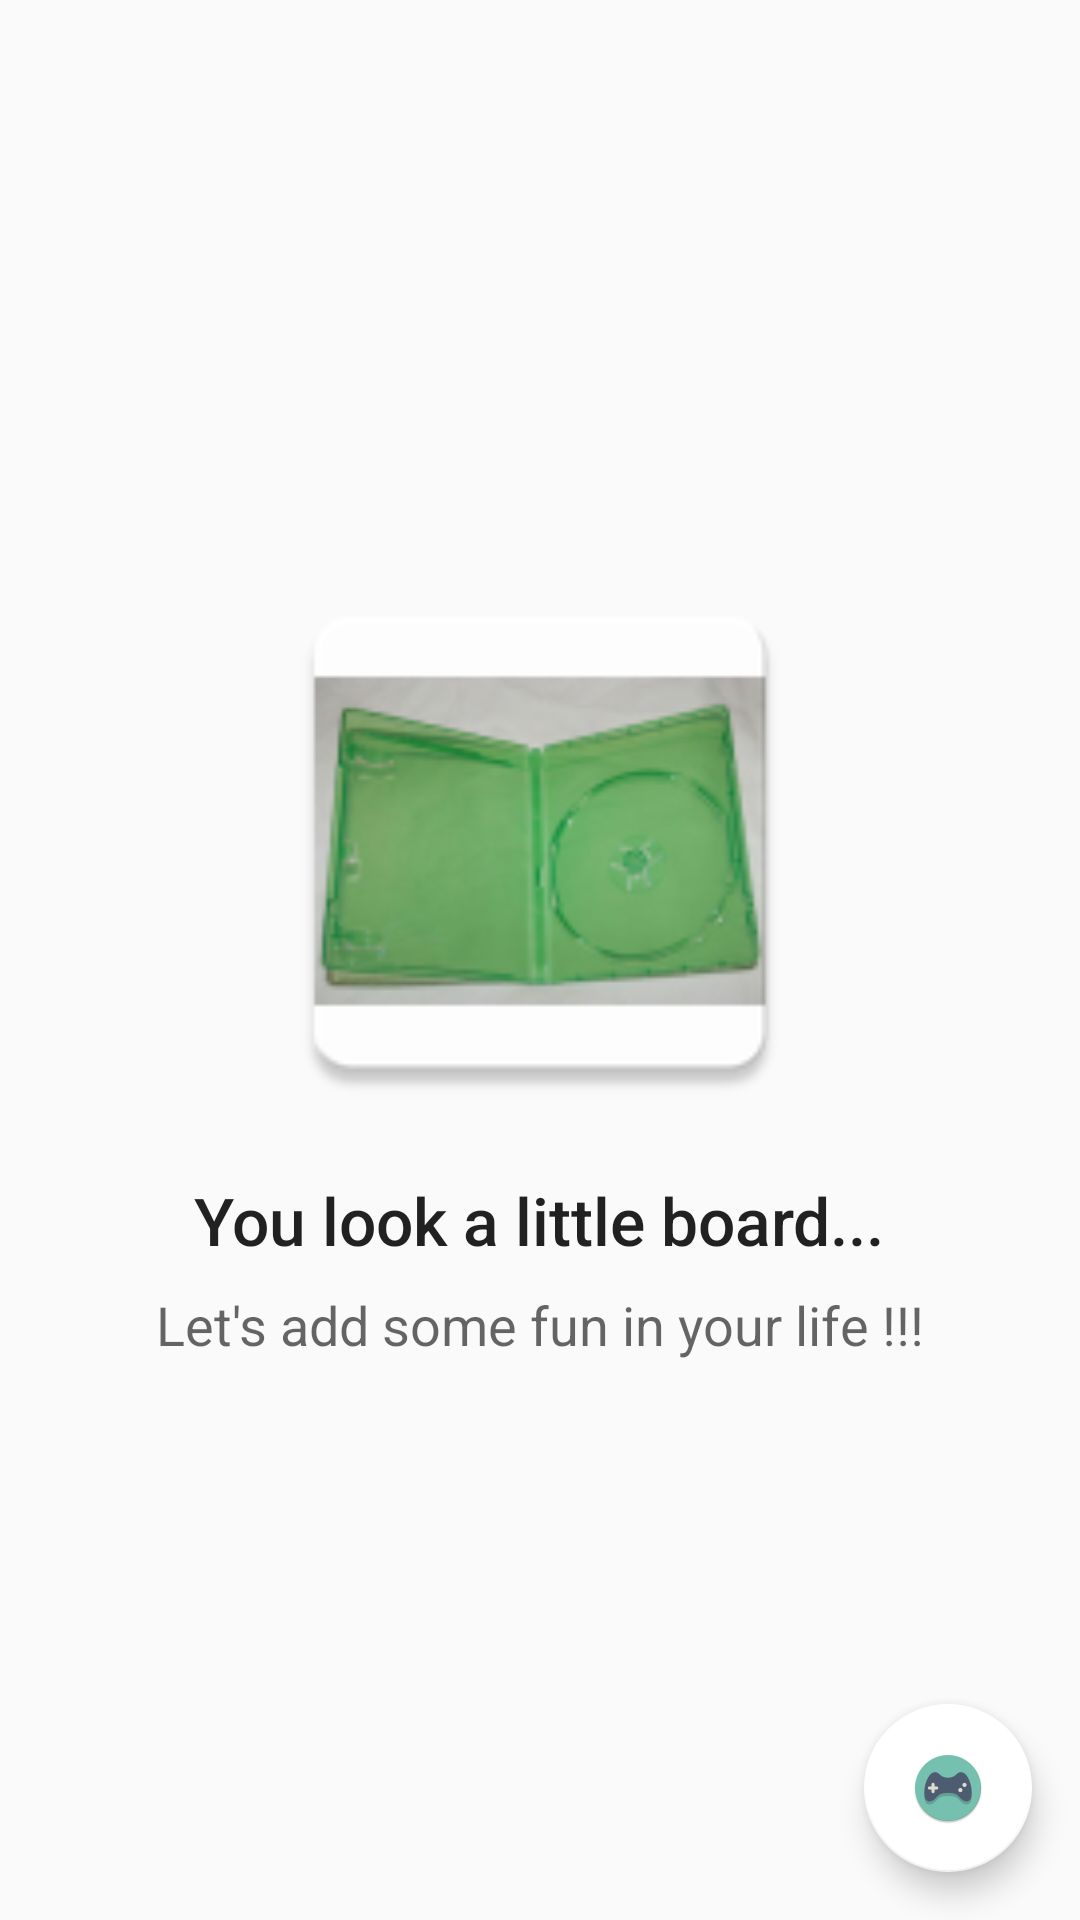

Screen size 1080 × 1920. Icon name, then its center in pixels as [x,y]:
game controller: [948,1789]
